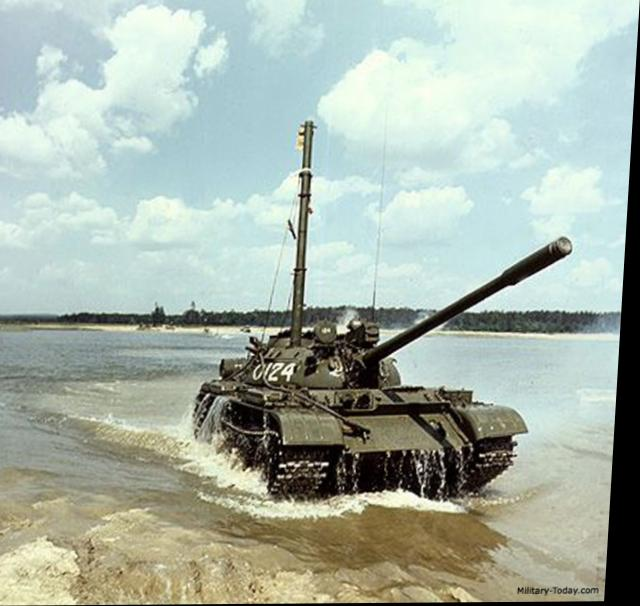tank: (202, 324, 520, 485)
